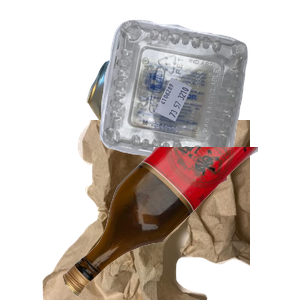glass: (60, 147, 300, 300)
metal: (84, 53, 279, 202)
plastic: (97, 17, 300, 176)
trash: (40, 120, 280, 300)
